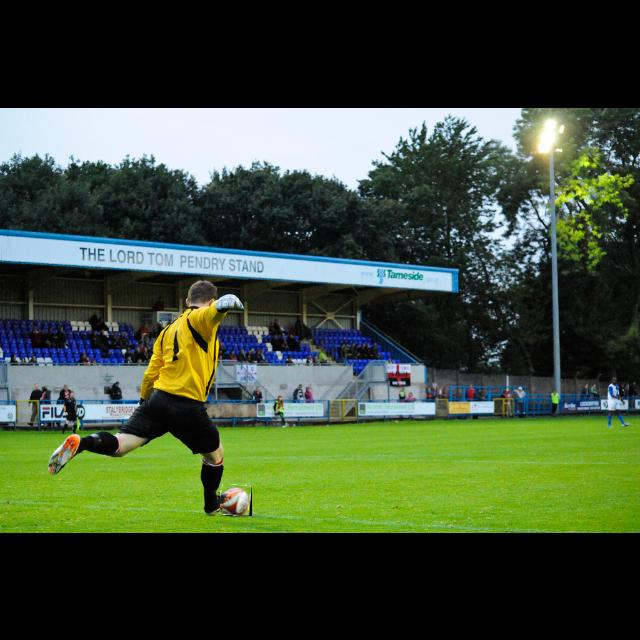Football: (220, 484, 252, 516)
